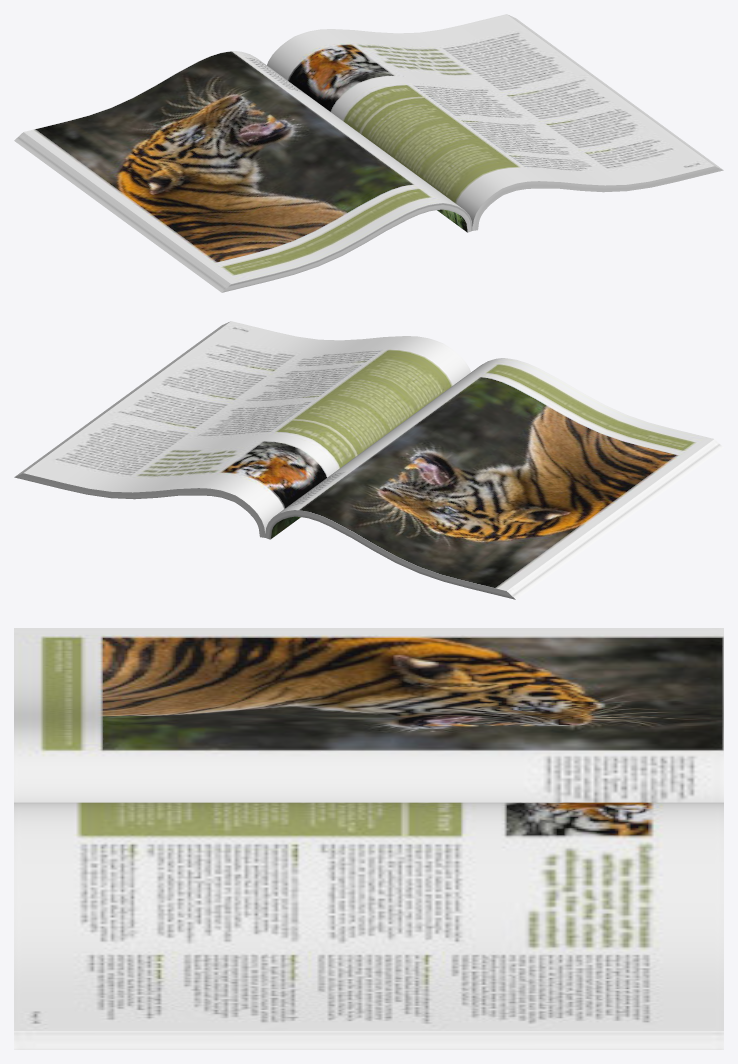
The model's file is sweethome3d-scopia-opened-magazine.glb.
The picture shows the model from 3 angles, top to bottom: view 1: azimuth 30°, elevation 25°; view 2: azimuth 150°, elevation 25°; view 3: azimuth 270°, elevation 25°; orthographic projection. The views are drawn at different scales.
Visible parts, largest first — view 1: Plane; view 2: Plane; view 3: Plane.
Part boxes in pixels (<box>): Plane: <box>14,14,723,292</box>; Plane: <box>14,321,723,599</box>; Plane: <box>14,628,723,1049</box>.
Size of the model in its own units: 39.27 by 2.8 by 28.16.
Materials: 1 (1 with a texture image).
